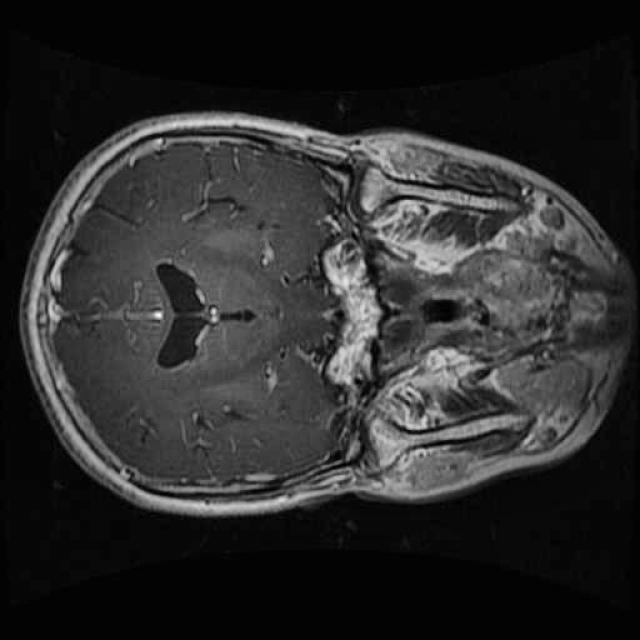Non-Tumor: (170, 186, 262, 235)
